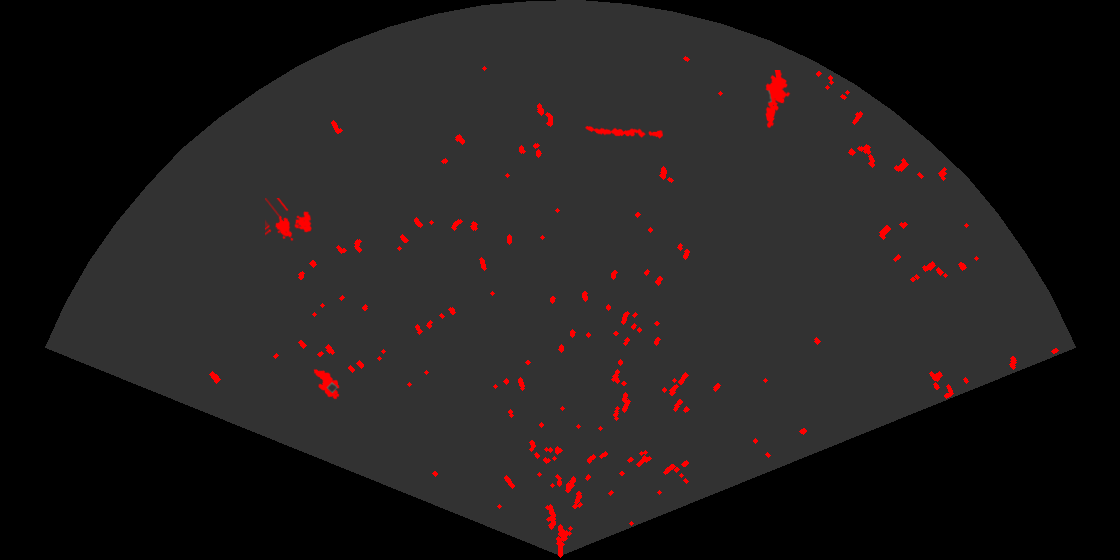AUV: (312, 367, 341, 401)
cage: (265, 198, 313, 243)
chain: (583, 124, 663, 140)
frogman: (764, 70, 792, 130)
